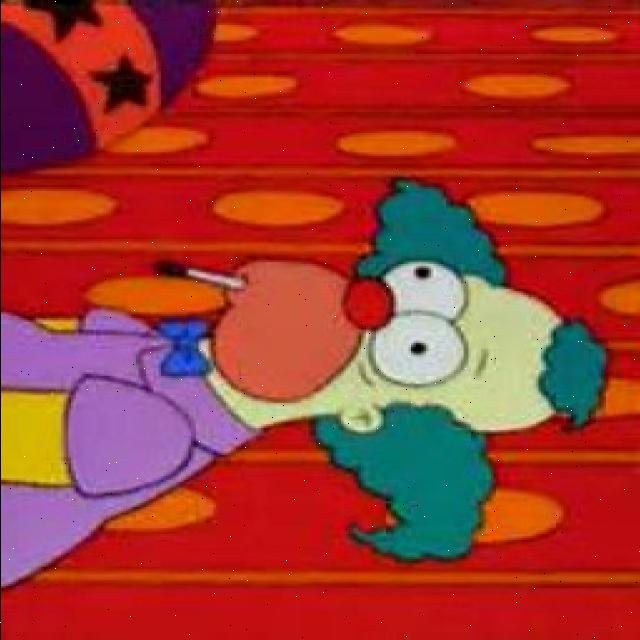Krusty the Clown: (152, 182, 618, 566)
